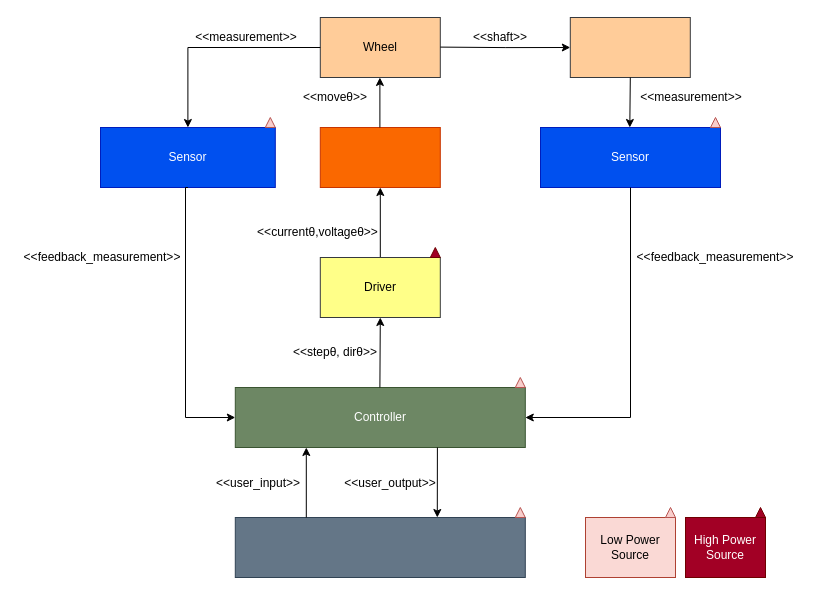
Image size: 817x595. Some labels were removed from this diagram. Each missing label, with the centre of its shape:
"Actuator" goes at (379,157).
"HMI (laptop)" goes at (379,547).
"Link" goes at (629,47).
